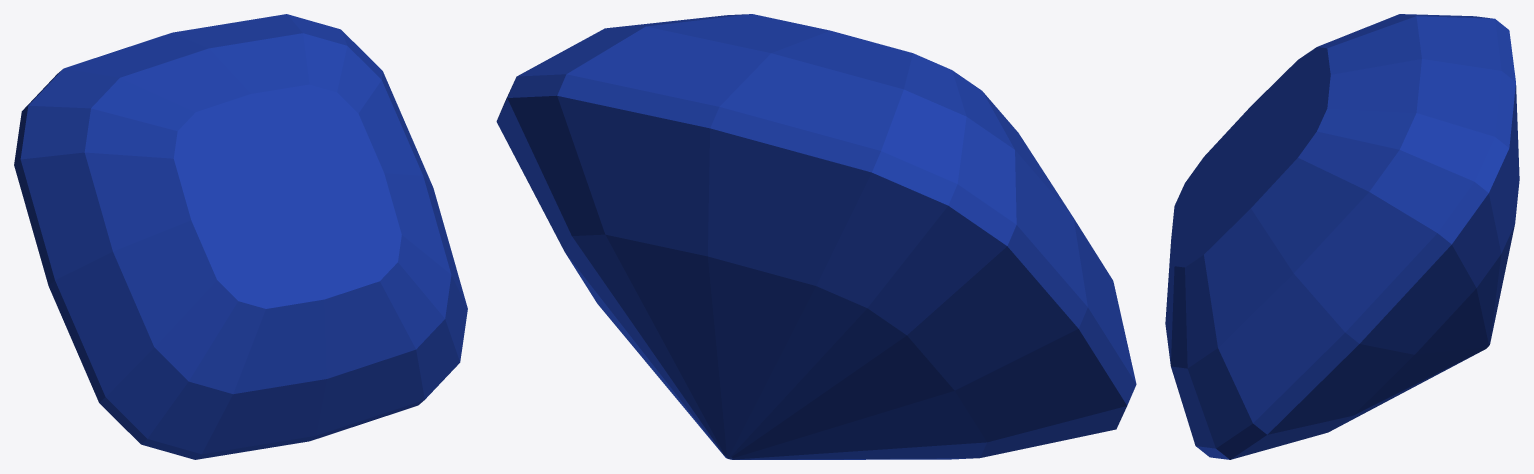
File: sapphire.glb
The picture shows the model from 3 angles, left to right: view 1: azimuth 30°, elevation 25°; view 2: azimuth 150°, elevation 25°; view 3: azimuth 270°, elevation 25°; orthographic projection. The views are drawn at different scales.
Visible parts, largest first — view 1: sapphire; view 2: sapphire; view 3: sapphire.
Boxes of the visible parts, x1,y1,x2,y2 form: sapphire: (14, 14, 467, 459); sapphire: (496, 14, 1136, 459); sapphire: (1165, 14, 1519, 459).
Bounding box in the file's own units: 2.1 × 1.69 × 1.57.
